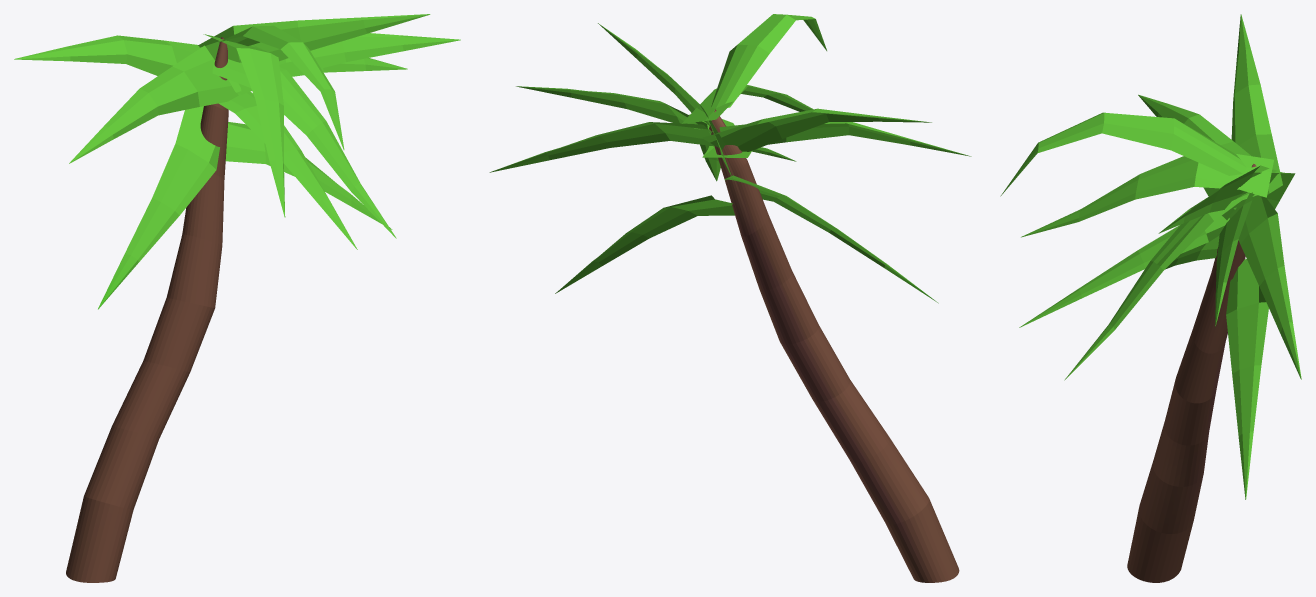
The model's file is tree.glb.
The picture shows the model from 3 angles, left to right: view 1: azimuth 30°, elevation 25°; view 2: azimuth 150°, elevation 25°; view 3: azimuth 270°, elevation 25°; orthographic projection. The views are drawn at different scales.
Visible parts, largest first — view 1: Leaves, Trunk; view 2: Leaves, Trunk; view 3: Leaves, Trunk.
Part boxes in pixels (x1=…): Leaves: x1=14, y1=14, x2=460, y2=309; Trunk: x1=66, y1=37, x2=228, y2=582; Leaves: x1=489, y1=14, x2=971, y2=303; Trunk: x1=709, y1=109, x2=959, y2=582; Leaves: x1=1000, y1=14, x2=1301, y2=499; Trunk: x1=1127, y1=164, x2=1256, y2=582.
Size of the model in its own units: 3.93 by 4.41 by 2.18.
